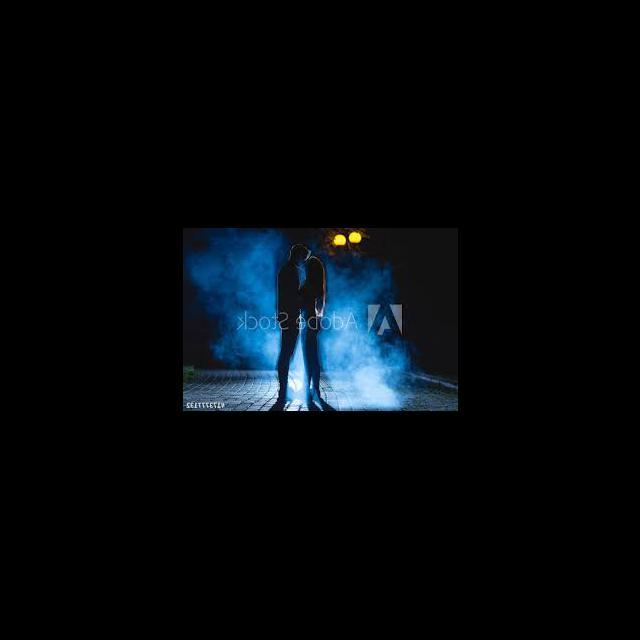Smoke: (334, 340, 412, 410), (193, 236, 272, 303), (329, 262, 378, 300), (212, 338, 274, 366)
